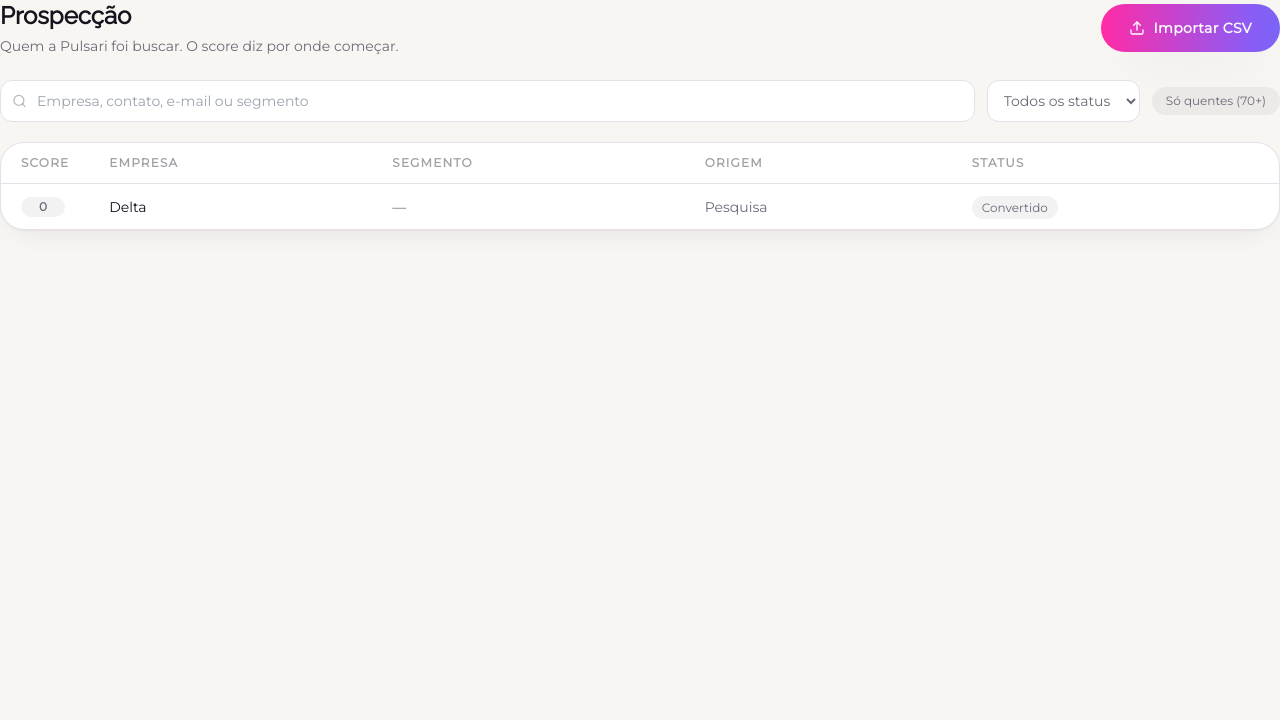
Test: painel com score explicado › prospect já convertido não oferece converter de novo
Click the button "Delta": (128, 206) [109,196,147,216]
(page scrolled)
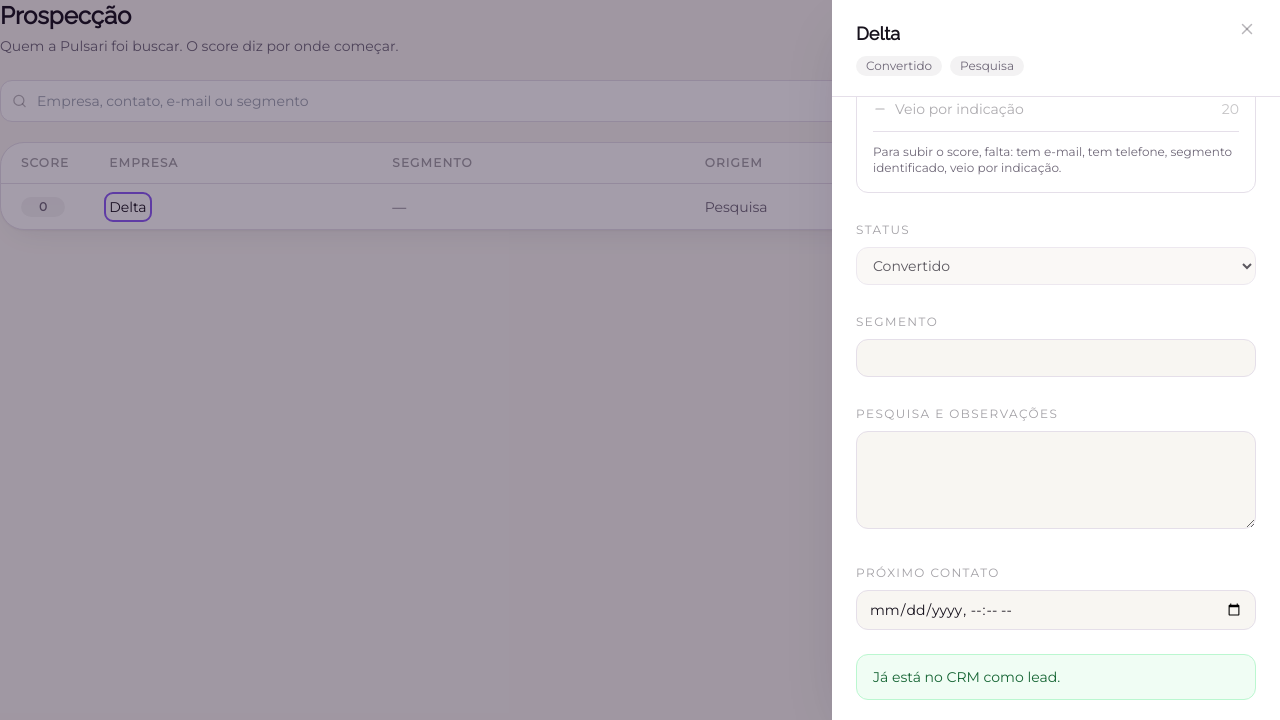
Check: the text "Já está no CRM como lead." is shown, box [856,654,1256,700]
